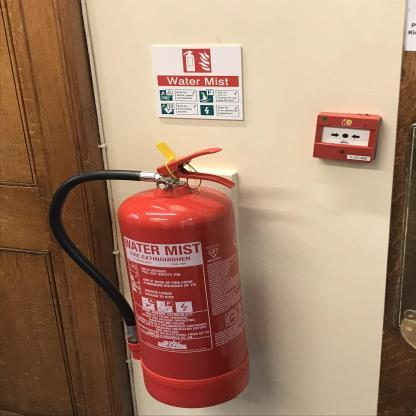Fire Extinguisher: (43, 130, 278, 416)
